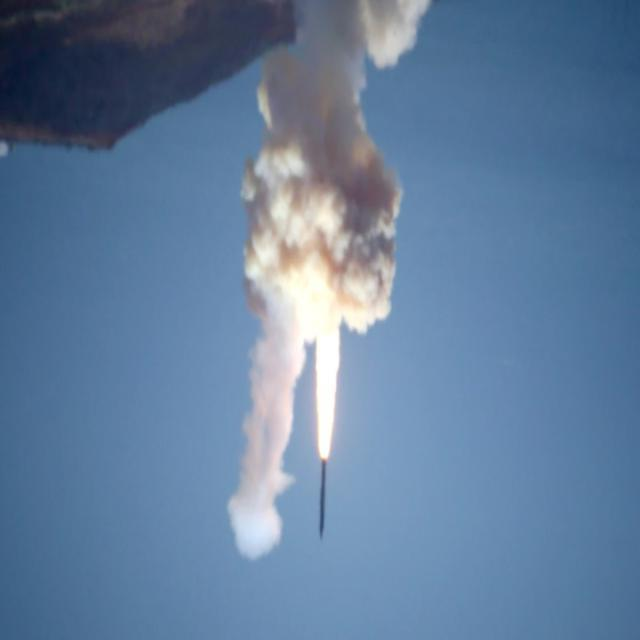Missile: (317, 450, 330, 544)
